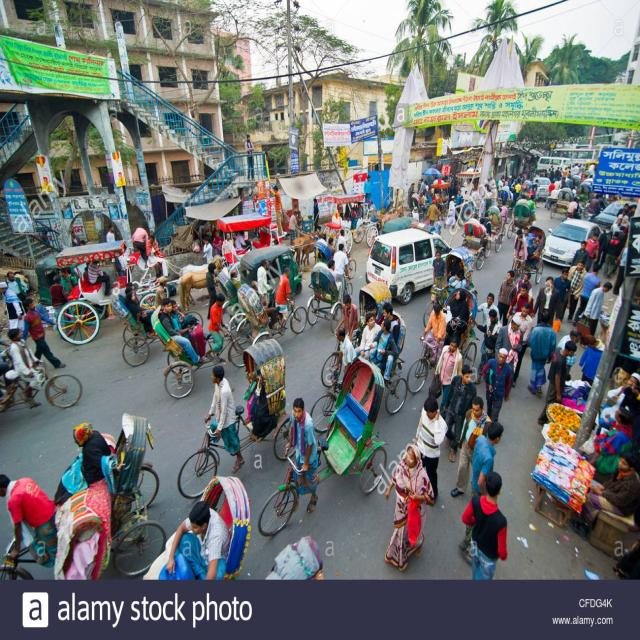body: (339, 162, 640, 235), (455, 419, 505, 567), (383, 441, 436, 572), (568, 450, 640, 531), (0, 472, 59, 565), (165, 500, 231, 580), (461, 470, 509, 580), (202, 362, 246, 474), (450, 393, 495, 501), (412, 394, 449, 506), (284, 398, 319, 516), (244, 360, 290, 444), (536, 339, 578, 427), (582, 405, 634, 476), (443, 362, 478, 463), (19, 297, 67, 369), (593, 371, 640, 441), (159, 297, 206, 364), (575, 278, 615, 350), (526, 308, 557, 397), (7, 328, 43, 403), (368, 300, 400, 384), (72, 421, 112, 486), (494, 310, 524, 390), (473, 308, 503, 386), (482, 347, 512, 424), (571, 259, 604, 328), (434, 335, 463, 412), (510, 303, 533, 388), (418, 301, 447, 365), (122, 280, 156, 334), (532, 276, 562, 335), (205, 292, 229, 365), (443, 287, 470, 348), (578, 331, 606, 387), (369, 318, 399, 370), (335, 326, 358, 392), (274, 265, 295, 336), (0, 280, 27, 334), (353, 311, 382, 361), (334, 293, 360, 348), (565, 259, 587, 323), (248, 293, 280, 334), (496, 269, 518, 328), (549, 266, 572, 322), (556, 329, 580, 382), (58, 267, 81, 321), (169, 299, 196, 342), (142, 230, 166, 278), (333, 243, 352, 302), (506, 282, 534, 320), (612, 244, 632, 297), (247, 278, 272, 320), (5, 270, 28, 314), (266, 184, 284, 238), (87, 260, 112, 297), (602, 230, 622, 276), (206, 262, 221, 320), (476, 291, 500, 327), (256, 258, 274, 306), (4, 328, 20, 381), (49, 274, 69, 316), (512, 228, 528, 278), (131, 226, 151, 264), (596, 226, 613, 270), (327, 260, 343, 304), (226, 267, 242, 311), (243, 132, 257, 182), (585, 228, 600, 274), (432, 250, 448, 289), (571, 240, 590, 271), (524, 238, 542, 270), (427, 196, 443, 232), (79, 259, 97, 287), (362, 295, 378, 326), (336, 228, 351, 260), (154, 274, 168, 308), (516, 270, 533, 298), (287, 208, 299, 246), (448, 252, 464, 280), (197, 220, 219, 238), (312, 197, 322, 236), (201, 235, 214, 265), (522, 226, 537, 250), (220, 232, 233, 257), (235, 231, 248, 256), (13, 271, 29, 291), (565, 196, 579, 218), (212, 230, 223, 256), (105, 223, 116, 243), (70, 230, 82, 247), (588, 193, 600, 210), (327, 237, 338, 254), (229, 225, 238, 245), (296, 210, 304, 231), (272, 239, 280, 248), (322, 234, 328, 243), (79, 239, 86, 246)
